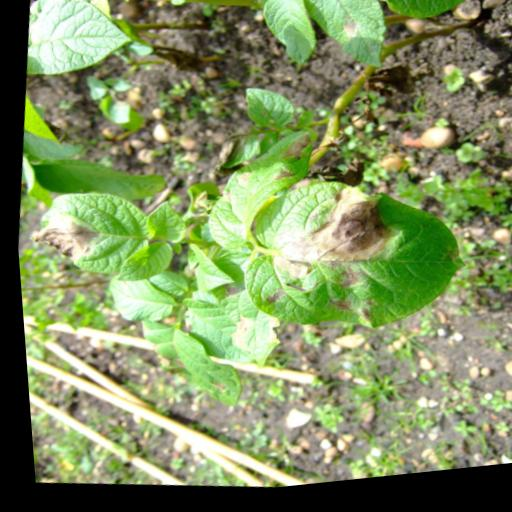Late Blight: (228, 169, 462, 363), (21, 183, 157, 289), (293, 0, 393, 84)
